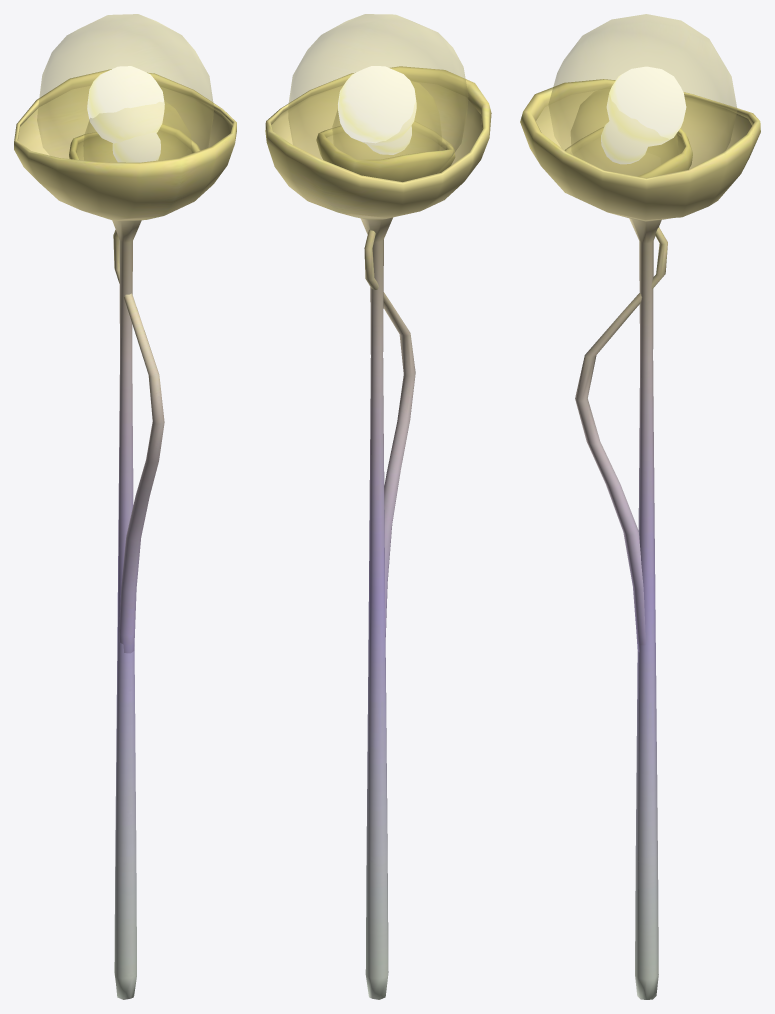
Rendered from Glowing_Plant.fbx.
3 renders of one model, left to right at view 1: azimuth 30°, elevation 25°; view 2: azimuth 150°, elevation 25°; view 3: azimuth 270°, elevation 25°, orthographic.
Visible parts, largest first — view 1: Glowing_Plant, Glowing_Plant 2; view 2: Glowing_Plant, Glowing_Plant 2; view 3: Glowing_Plant, Glowing_Plant 2.
Part boxes in pixels (x1=…): Glowing_Plant: x1=14, y1=14, x2=236, y2=999; Glowing_Plant 2: x1=69, y1=101, x2=200, y2=653; Glowing_Plant: x1=265, y1=14, x2=491, y2=999; Glowing_Plant 2: x1=316, y1=81, x2=455, y2=640; Glowing_Plant: x1=520, y1=14, x2=760, y2=999; Glowing_Plant 2: x1=565, y1=85, x2=692, y2=652.
Size of the model in its own units: 189 by 912 by 204.
